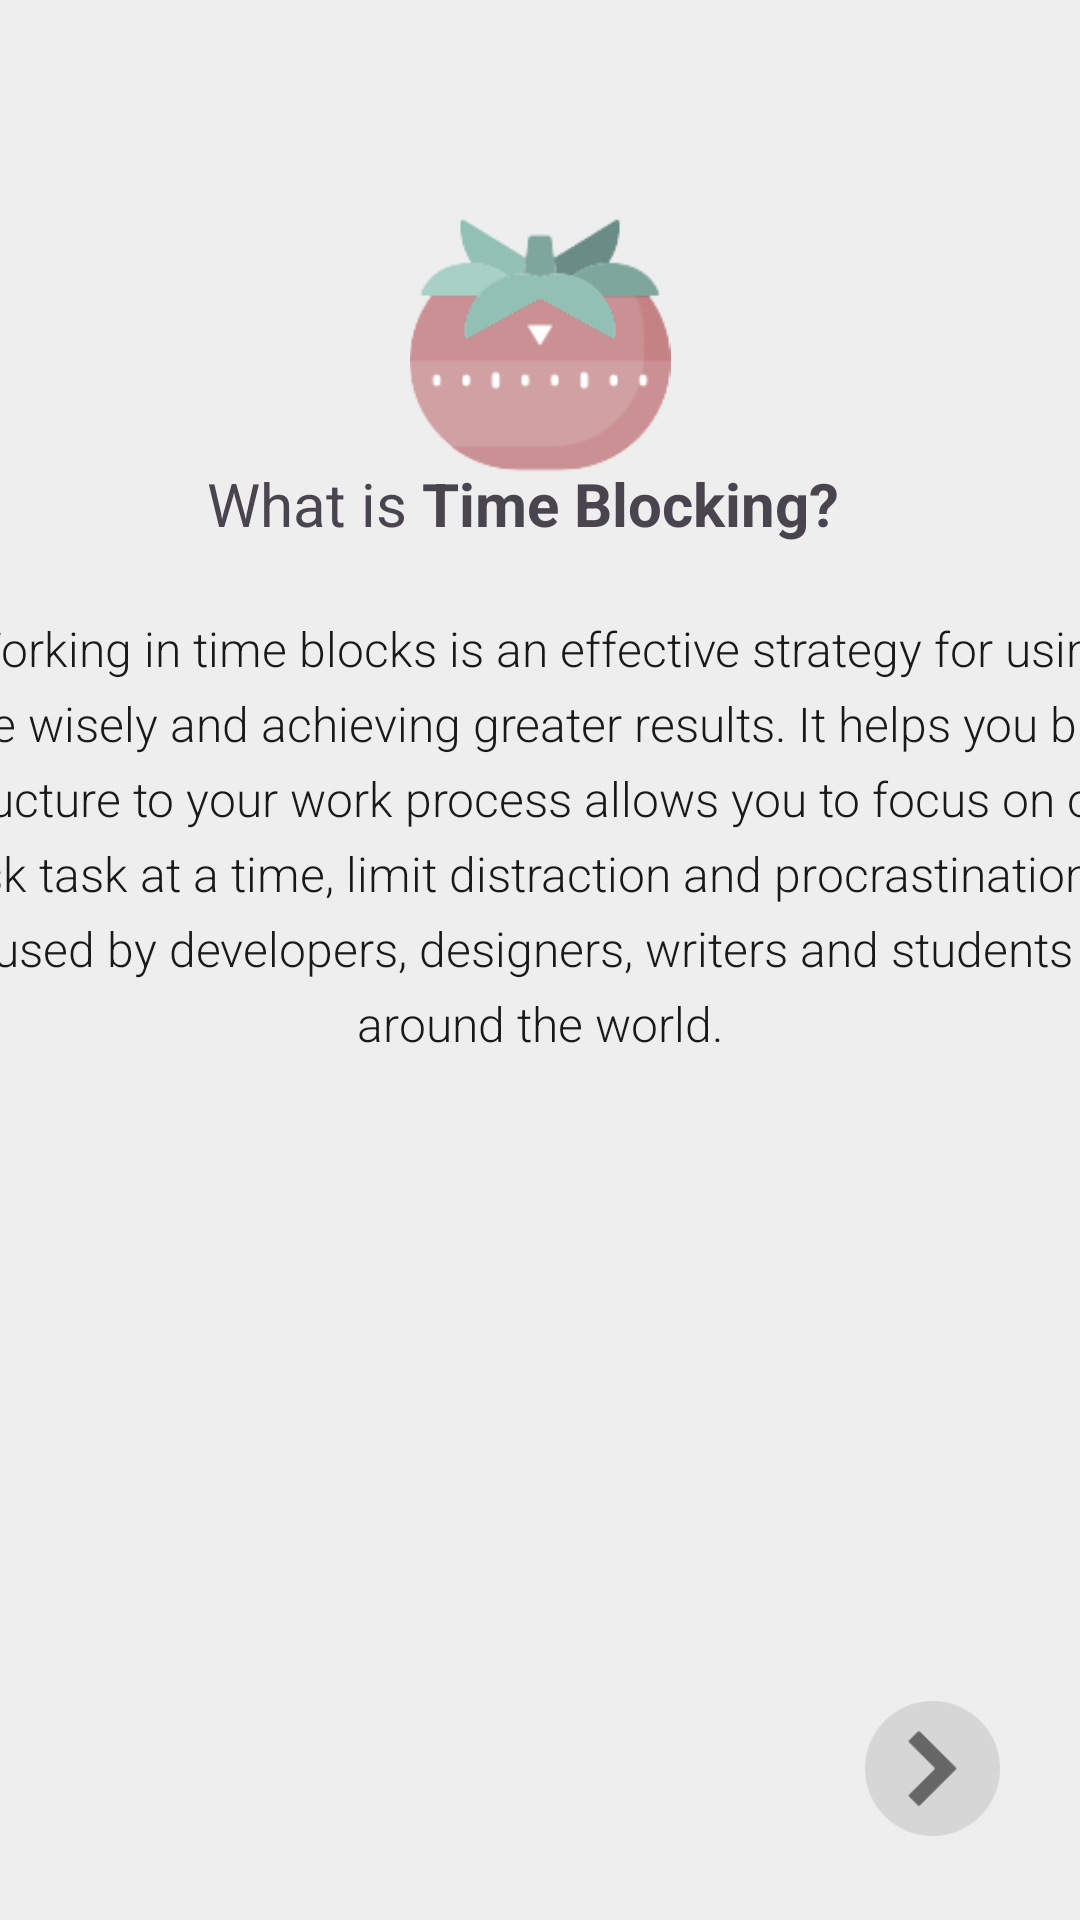

Icon bounding boxes for this 1080x1920 phone screenshot, format [left=x1, top=y1, right=x2, bottom=y2]:
next: [left=865, top=1701, right=1000, bottom=1836]
pomodoro: [left=410, top=219, right=671, bottom=471]
